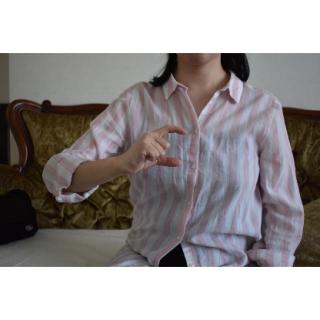DELL: (122, 122, 188, 183)
